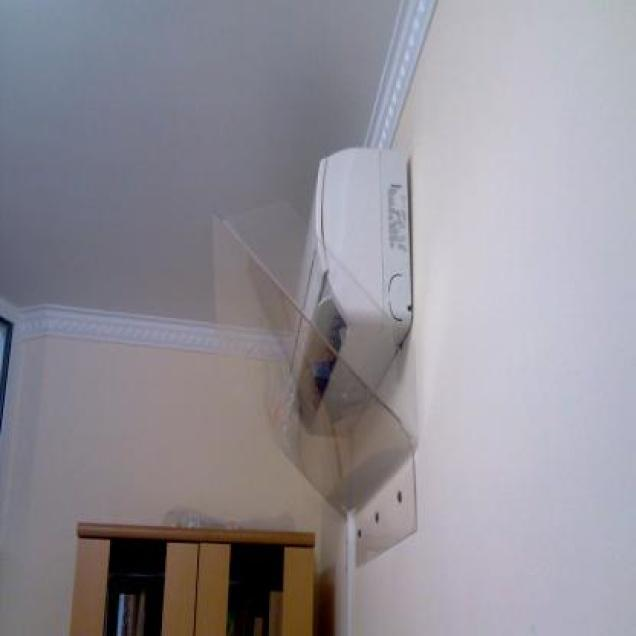AC: (289, 145, 412, 436)
